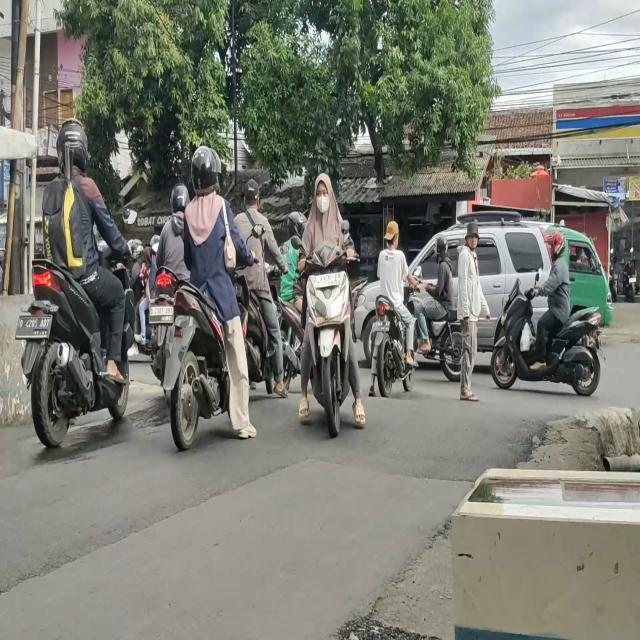helmet: (56, 120, 87, 177), (189, 139, 217, 196), (169, 180, 189, 223), (550, 228, 568, 263), (287, 211, 305, 240), (433, 235, 447, 259)
no-helmet: (313, 170, 333, 210), (243, 174, 261, 206), (382, 219, 400, 249)
